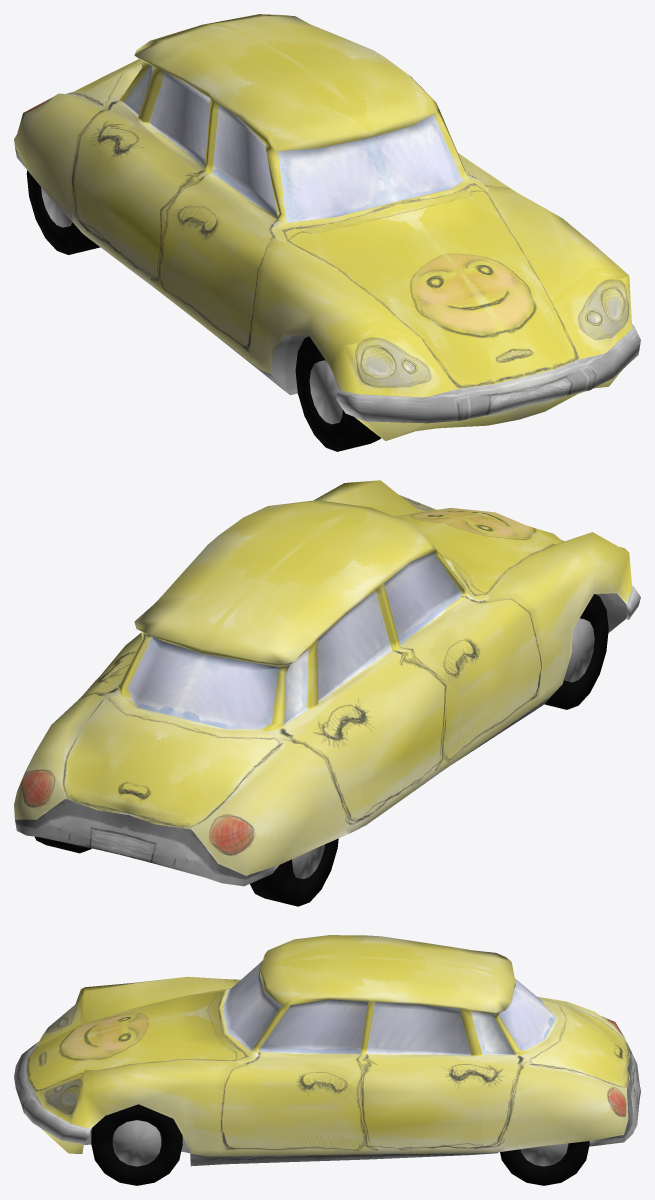
The model's file is car2.obj.
3 views of the same model, one above another, from view 1: azimuth 30°, elevation 25°; view 2: azimuth 150°, elevation 25°; view 3: azimuth 270°, elevation 25° (orthographic). The views are drawn at different scales.
Visible parts, largest first — view 1: body, wheel; view 2: body, wheel; view 3: body, wheel.
Boxes of the visible parts, box(x1,y1,x2,y2) form: body: box(14, 14, 640, 440); wheel: box(26, 170, 592, 451); body: box(14, 480, 640, 886); wheel: box(35, 594, 608, 906); body: box(14, 935, 640, 1166); wheel: box(91, 1104, 589, 1185).
Bounding box in the file's own units: 0.868 × 0.6729 × 2.09.
4 materials, 1 textured.
